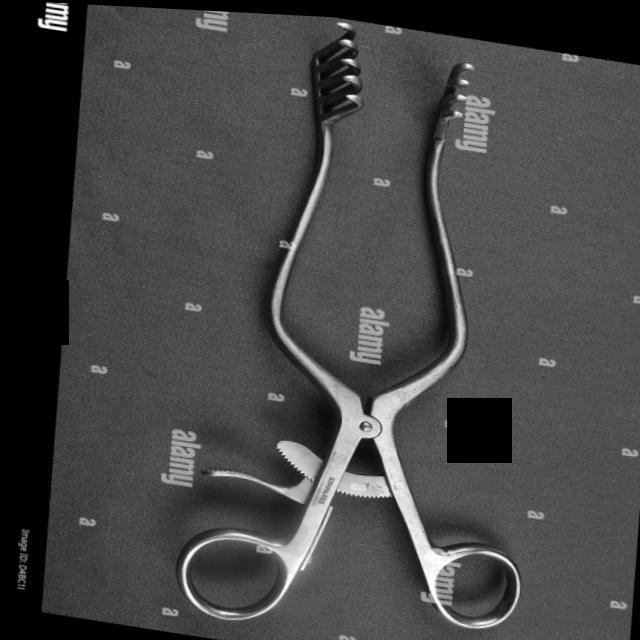Self Retractor: (150, 6, 589, 640)
